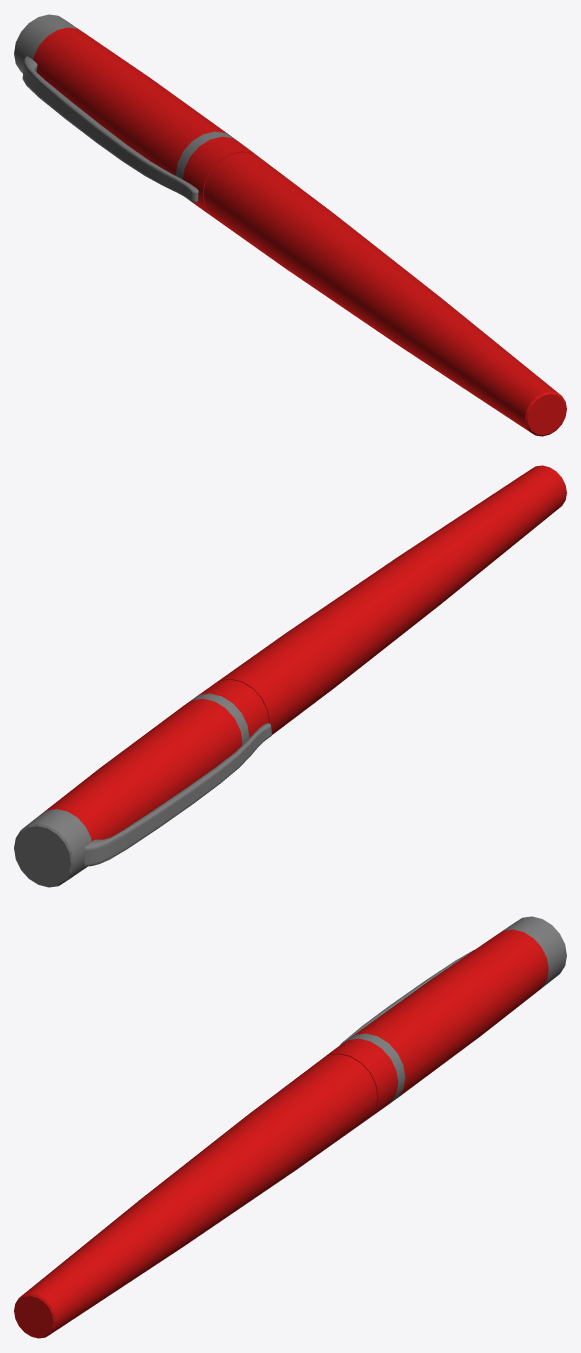
File: Pen 2.FBX
3 views of the same model, one above another, from view 1: azimuth 30°, elevation 25°; view 2: azimuth 150°, elevation 25°; view 3: azimuth 330°, elevation 25° (orthographic).
Visible parts, largest first — view 1: pen 2; view 2: pen 2; view 3: pen 2.
Part boxes in pixels (x1,y1,x2,y2): pen 2: (14, 14, 566, 436); pen 2: (14, 465, 566, 887); pen 2: (14, 916, 566, 1338).
Size of the model in its own units: 1.42 by 1.13 by 15.01.
Materials: 1 (1 with a texture image).
